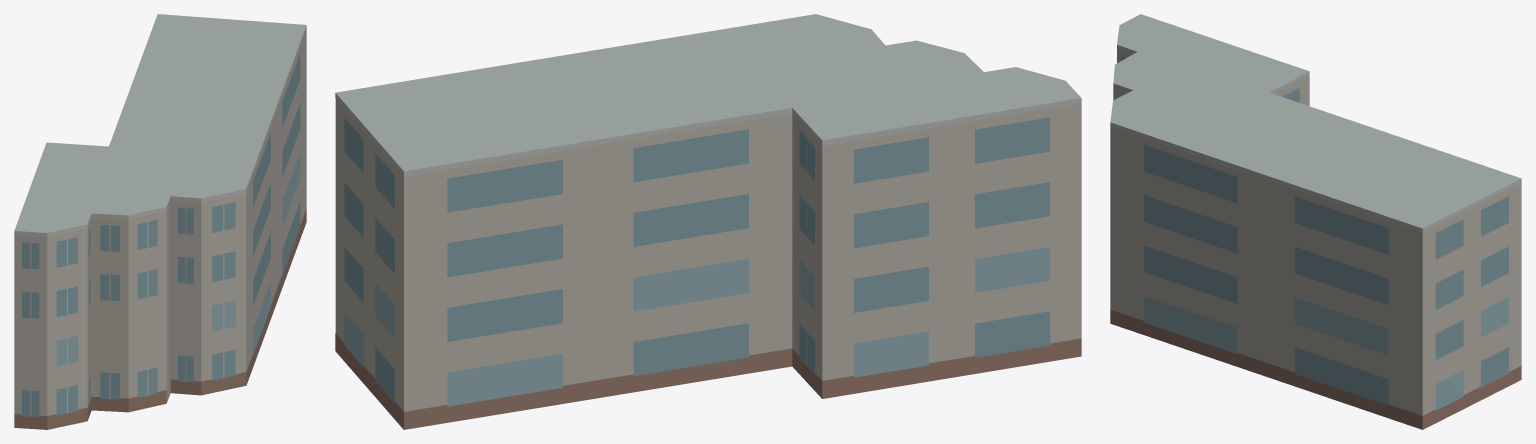
The model's file is survey-upis-32929883.glb.
3 renders of one model, left to right at view 1: azimuth 30°, elevation 25°; view 2: azimuth 150°, elevation 25°; view 3: azimuth 270°, elevation 25°, orthographic. The views are drawn at different scales.
Visible parts, largest first — view 1: survey-upis-32929883.tmp; view 2: survey-upis-32929883.tmp; view 3: survey-upis-32929883.tmp.
Part boxes in pixels (x1,y1,x2,y2): survey-upis-32929883.tmp: [14, 14, 306, 429]; survey-upis-32929883.tmp: [335, 14, 1081, 429]; survey-upis-32929883.tmp: [1110, 14, 1521, 429].
Size of the model in its own units: 26.53 by 11.6 by 21.5.
